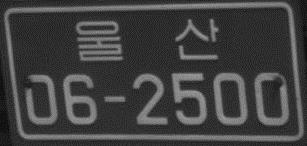-: (101, 91, 129, 107)
0: (210, 69, 251, 128), (252, 69, 291, 128), (22, 71, 60, 127)
2: (130, 71, 170, 125)
5: (170, 70, 208, 128)
6: (60, 70, 98, 127)
울산_D: (74, 16, 221, 64)
